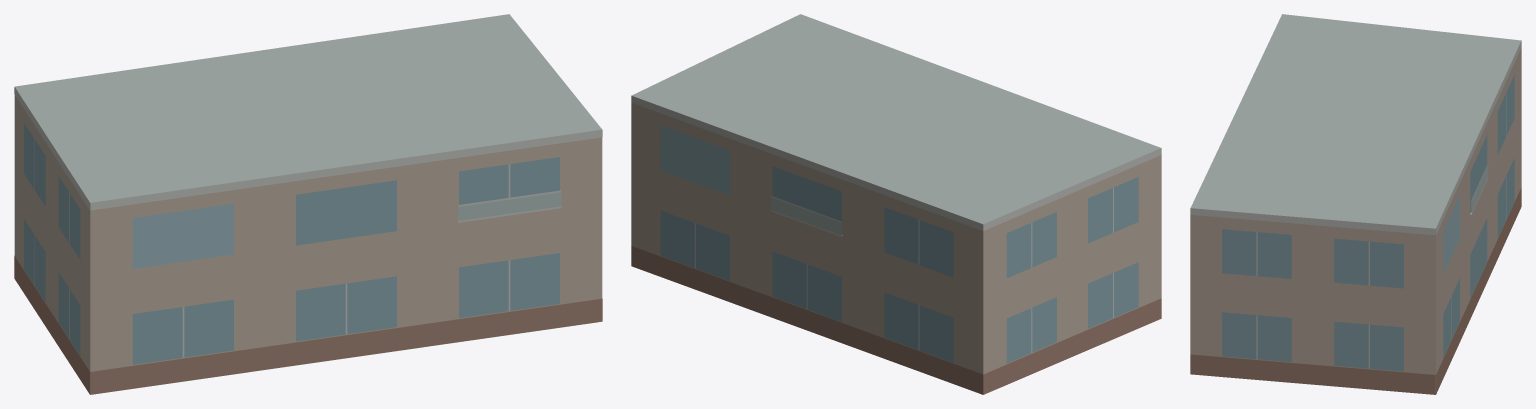
The model's file is survey-upis-33005524.glb.
3 renders of one model, left to right at view 1: azimuth 30°, elevation 25°; view 2: azimuth 150°, elevation 25°; view 3: azimuth 270°, elevation 25°, orthographic. The views are drawn at different scales.
Visible parts, largest first — view 1: survey-upis-33005524.tmp; view 2: survey-upis-33005524.tmp; view 3: survey-upis-33005524.tmp.
Boxes of the visible parts, x1,y1,x2,y2 form: survey-upis-33005524.tmp: [14, 14, 602, 394]; survey-upis-33005524.tmp: [631, 14, 1161, 394]; survey-upis-33005524.tmp: [1190, 14, 1521, 394].
Bounding box in the file's own units: 16.91 × 6.1 × 11.02.
